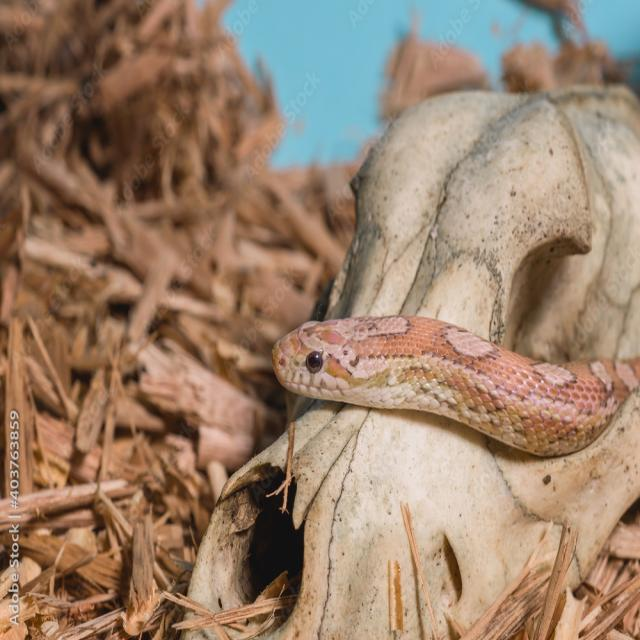Snake: (251, 272, 640, 500)
